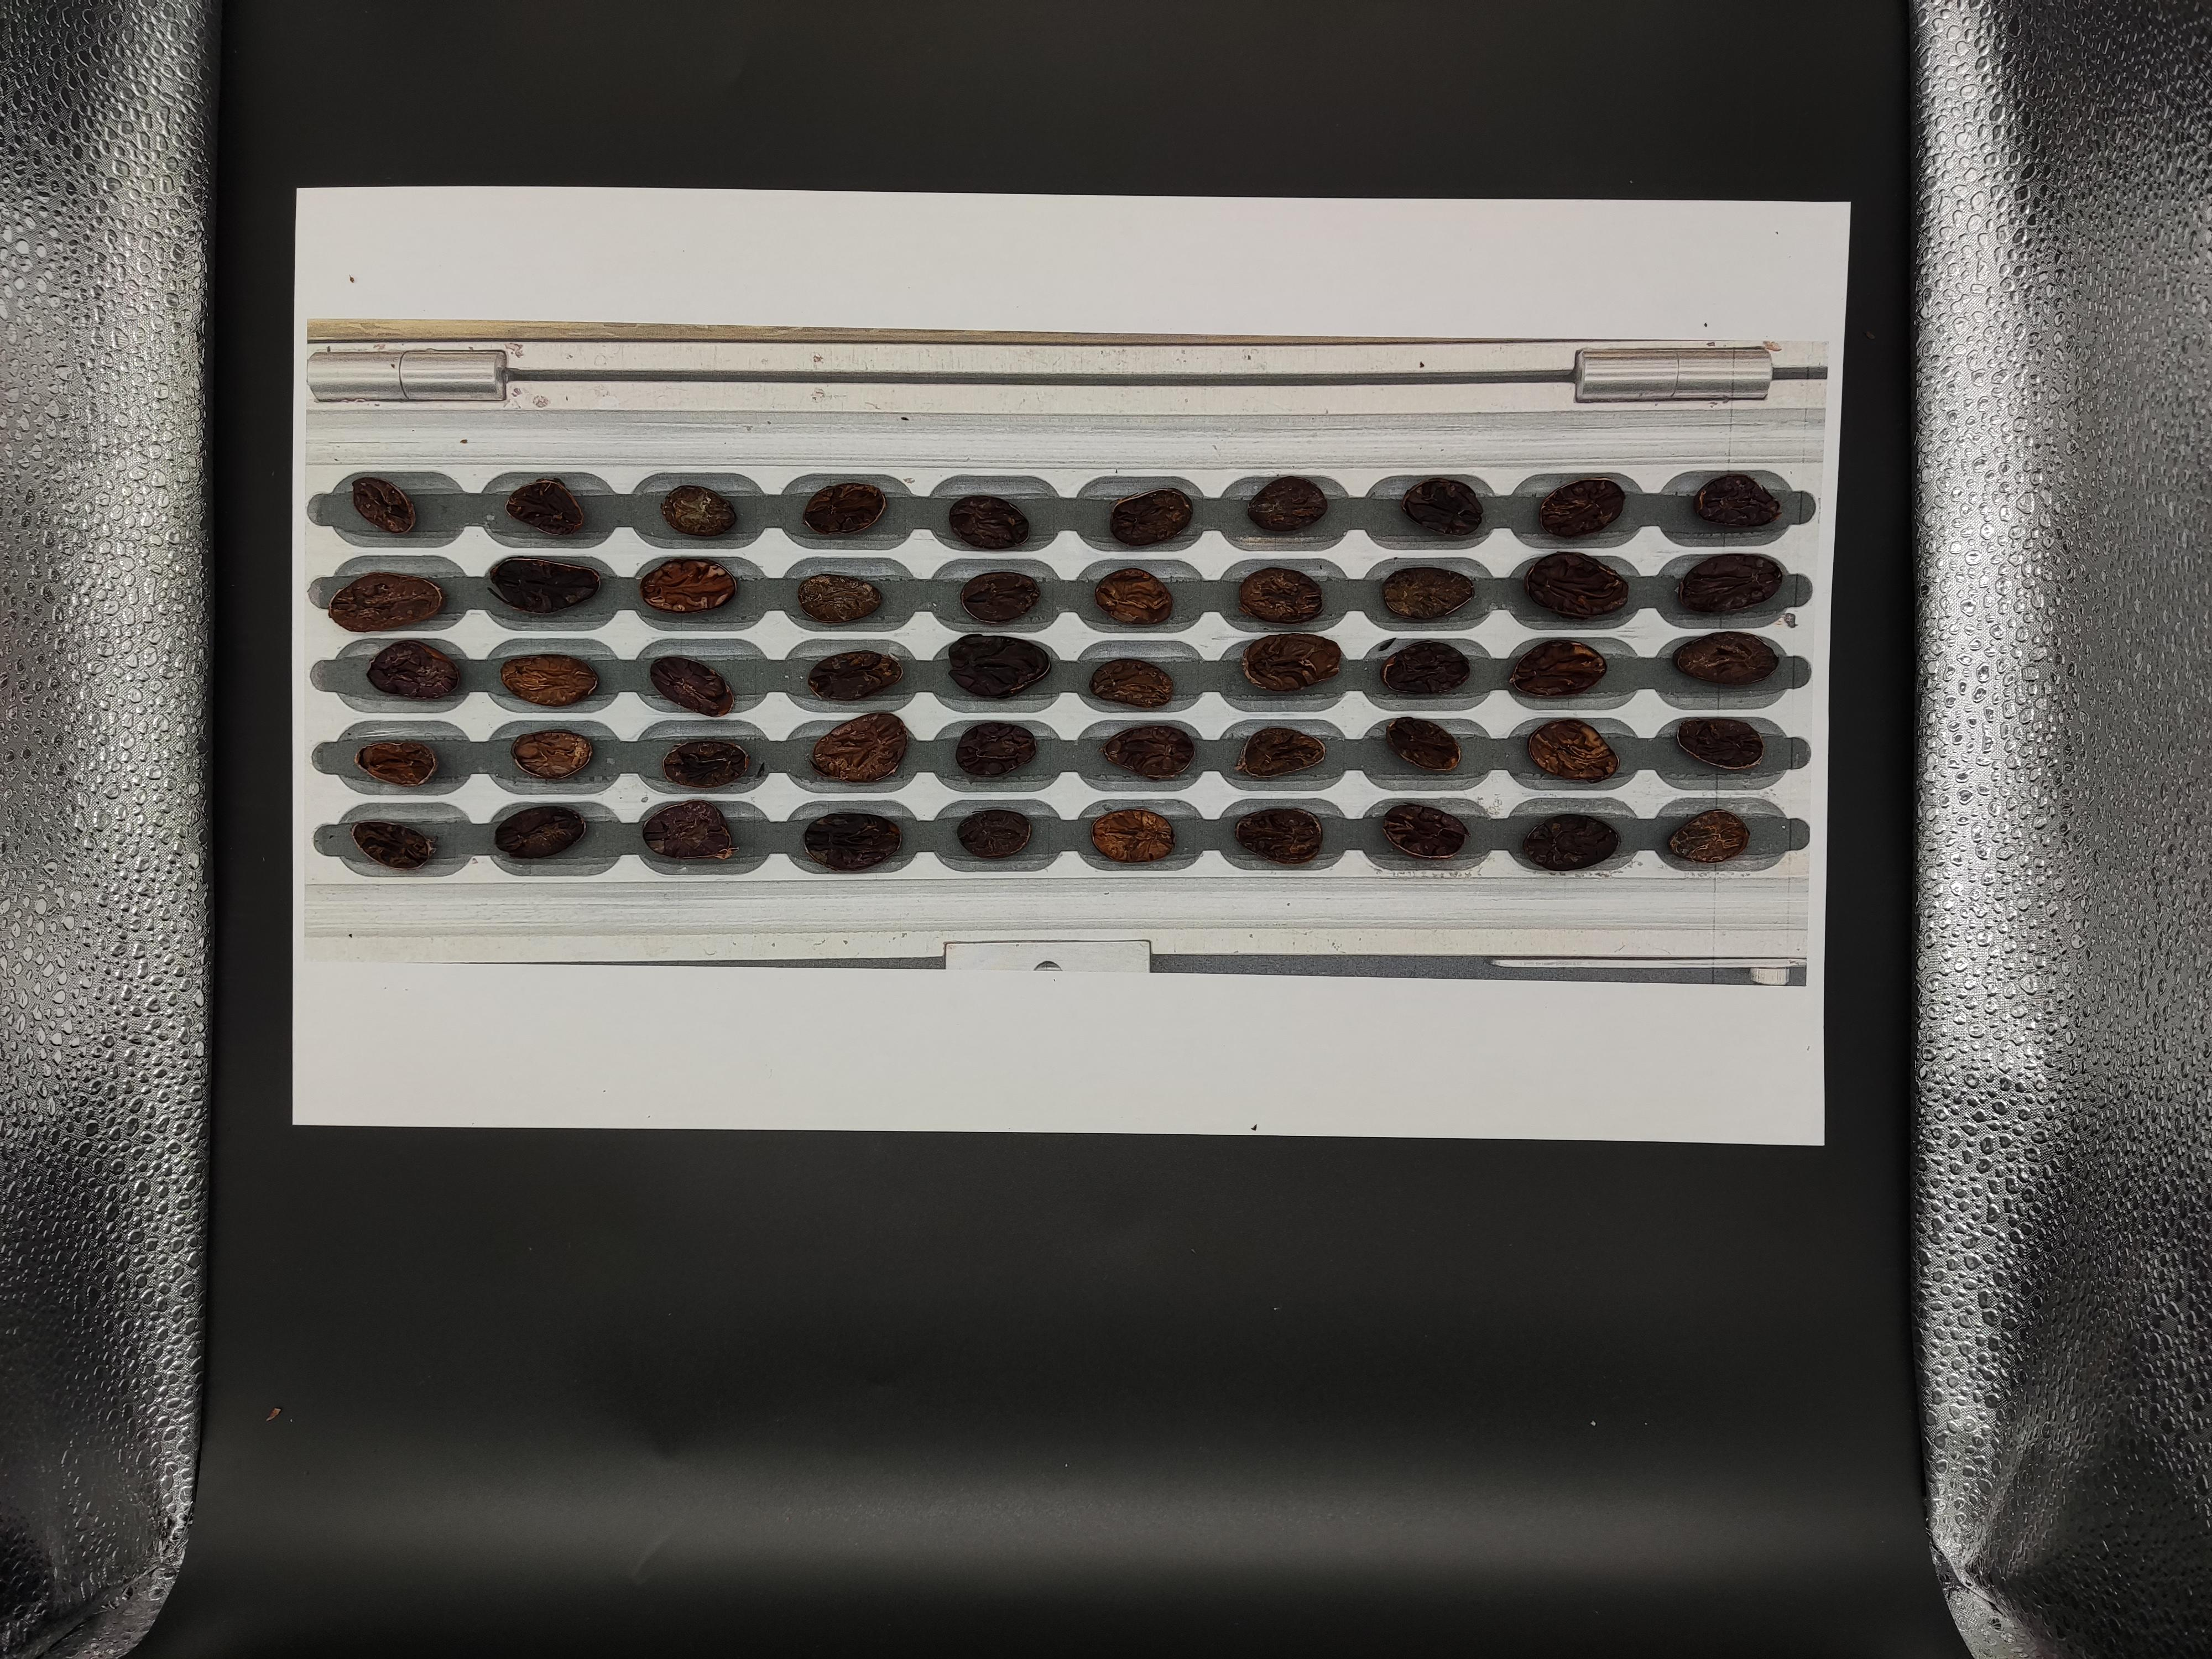Brown - G1: (1858, 1091, 1916, 1129), (1851, 1133, 1905, 1171), (1407, 1093, 1460, 1129)
Brown - G2: (1489, 1171, 1550, 1215), (1710, 1133, 1771, 1168), (1864, 1051, 1918, 1089), (1641, 1176, 1696, 1213), (1858, 1178, 1912, 1215), (1709, 1220, 1761, 1256), (1637, 1096, 1684, 1134), (1709, 1180, 1763, 1213), (1489, 1054, 1538, 1087), (1787, 1175, 1832, 1209)
Brown - G3: (1935, 1133, 1996, 1168), (1642, 1058, 1696, 1096), (1710, 1098, 1763, 1133), (1635, 1141, 1684, 1178), (1568, 1100, 1618, 1134), (1635, 1222, 1684, 1256), (1364, 1141, 1390, 1176), (1364, 1182, 1388, 1216)
Insect-damaged: (1785, 1098, 1838, 1131)
Mouldy: (1930, 1222, 1980, 1258), (1716, 1051, 1763, 1087), (1486, 1100, 1534, 1133), (1414, 1056, 1463, 1089), (1566, 1223, 1613, 1255)
Partly Purple - G1: (1562, 1131, 1623, 1171), (1787, 1215, 1834, 1255)
Partly Purple - G2: (1939, 1093, 1994, 1129), (1489, 1223, 1545, 1260), (1785, 1136, 1836, 1169), (1566, 1180, 1615, 1211), (1418, 1187, 1467, 1218), (1364, 1091, 1392, 1129)
Partly Purple - G3: (1409, 1143, 1461, 1183)
Total Purple - G2: (1944, 1049, 1996, 1084)
Total Purple - G3: (1406, 1218, 1460, 1256)
Very Dark Brown - G2: (1791, 1054, 1844, 1089), (1559, 1060, 1613, 1094), (1933, 1173, 1986, 1208), (1364, 1053, 1383, 1089)
Very Dark Brown - G3: (1855, 1225, 1916, 1262), (1491, 1138, 1543, 1173), (1364, 1218, 1383, 1255)
